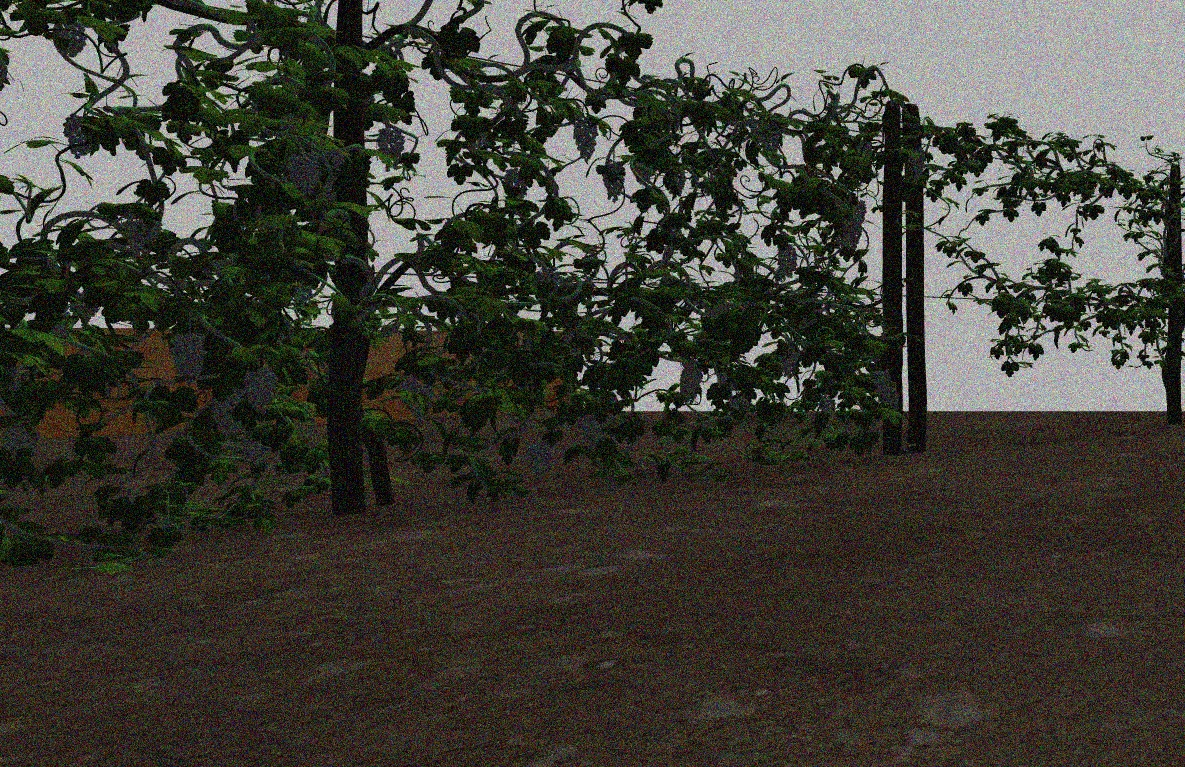grape: (170, 333, 206, 384), (243, 368, 279, 417), (285, 151, 322, 197), (125, 212, 163, 253), (397, 378, 435, 417), (1, 422, 38, 461), (63, 114, 93, 160), (212, 394, 242, 438), (53, 22, 89, 58), (376, 127, 405, 170), (572, 120, 600, 164), (523, 444, 554, 481), (677, 360, 704, 402), (601, 160, 627, 203), (774, 344, 802, 378), (577, 413, 602, 450), (241, 440, 269, 468), (776, 244, 798, 278), (840, 216, 862, 250), (906, 148, 926, 181), (873, 370, 891, 396), (728, 394, 750, 414), (326, 150, 346, 171), (881, 389, 900, 409), (818, 397, 836, 416)
